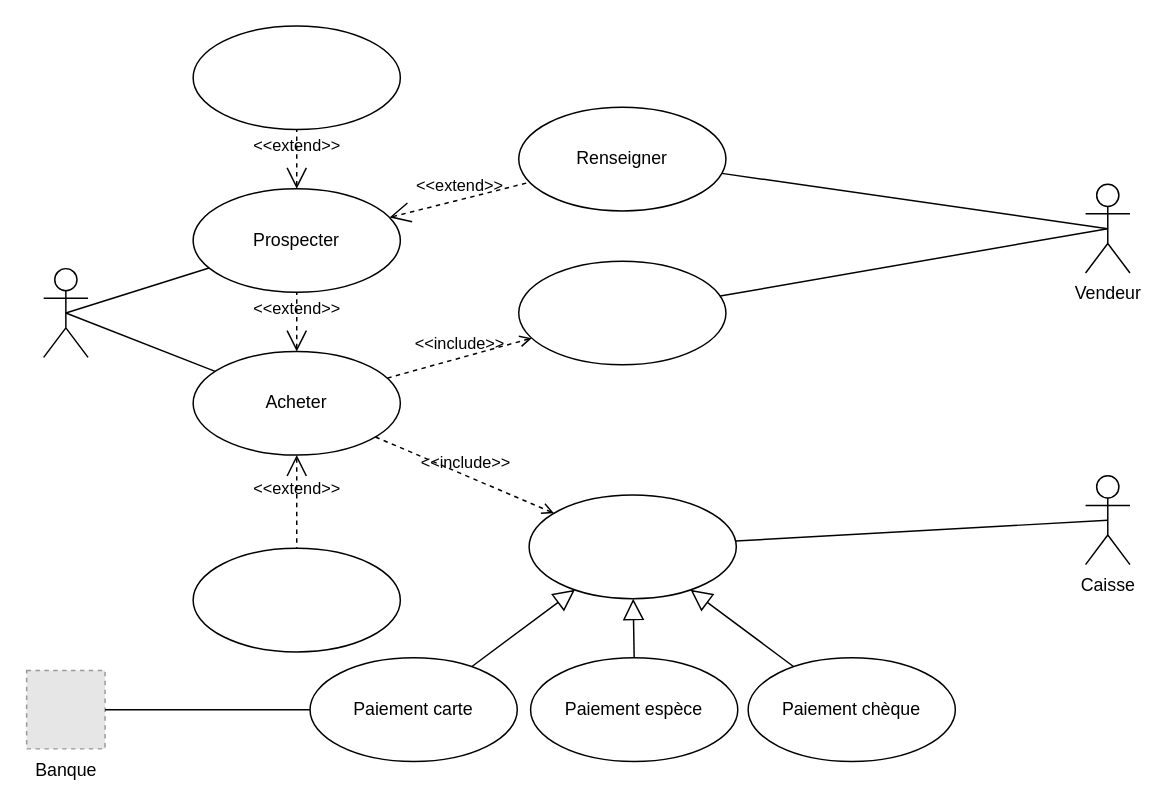
This 1166x805 diagram has some shape labels left out. Grey dashed boxes stand in for pictures. The centre of each missing label's shape, as x and y in pixels:
"Client" belongs at (65,312).
"Essayer" belongs at (296,77).
"Paiement" belongs at (632,546).
"Réduction" belongs at (296,599).
"Vérifier le stock" belongs at (621,312).
